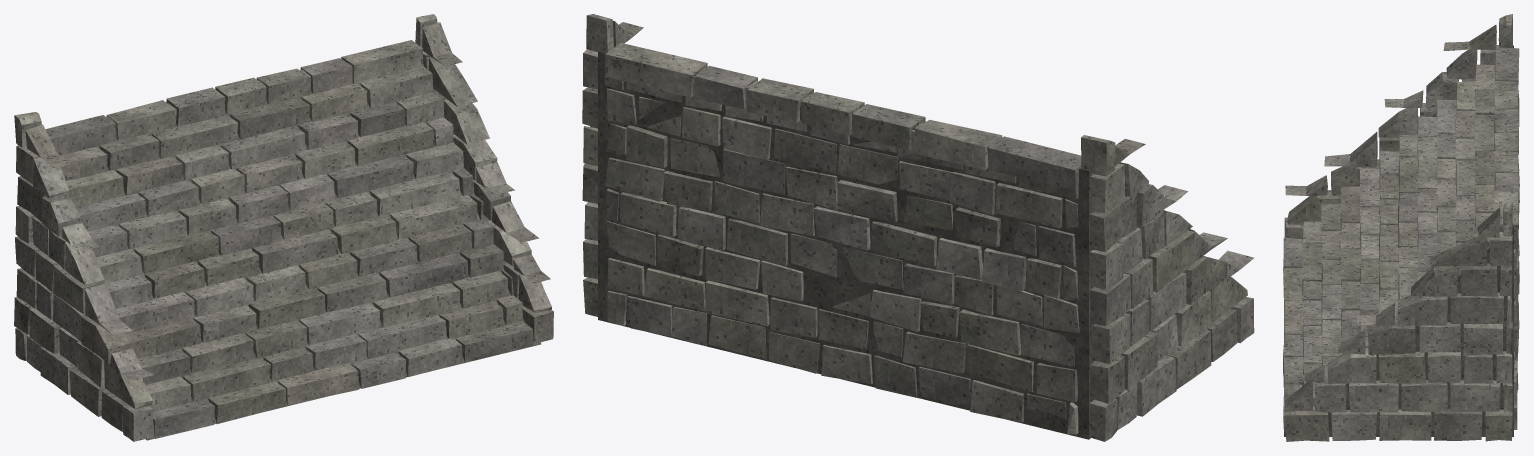
Rendered from escada_pedra_g.glb.
3 renders of one model, left to right at view 1: azimuth 30°, elevation 25°; view 2: azimuth 150°, elevation 25°; view 3: azimuth 270°, elevation 25°, orthographic. The views are drawn at different scales.
Visible parts, largest first — view 1: escada_pedra_g_pedra; view 2: escada_pedra_g_pedra; view 3: escada_pedra_g_pedra.
Boxes of the visible parts, left/top/right/bottom form: escada_pedra_g_pedra: left=14, top=14, right=553, bottom=441; escada_pedra_g_pedra: left=582, top=14, right=1254, bottom=441; escada_pedra_g_pedra: left=1283, top=14, right=1519, bottom=441.
Bounding box in the file's own units: 6.14 × 3.35 × 3.09.
Materials: 1 (1 with a texture image).
